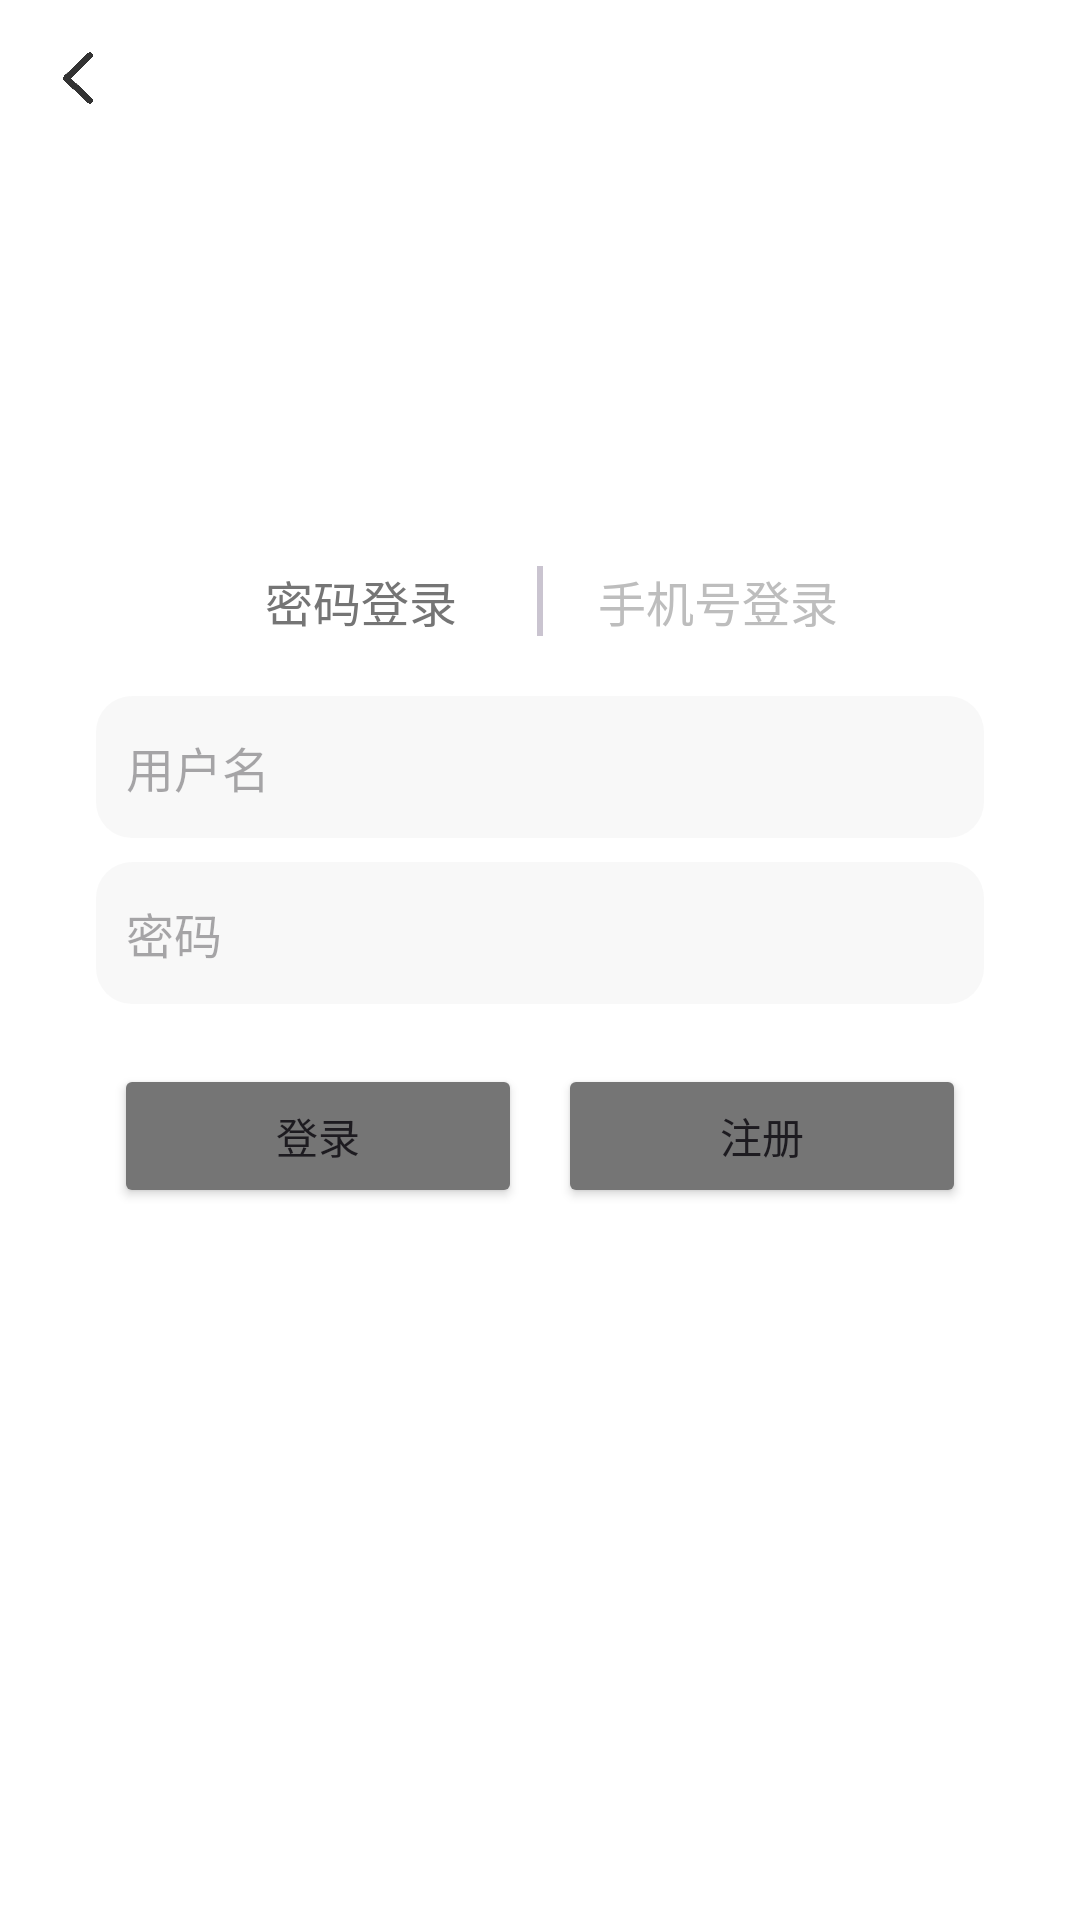

Point at icon controls on the screen. Image size 1080×1920, points as [x,y].
back: [78,78]
